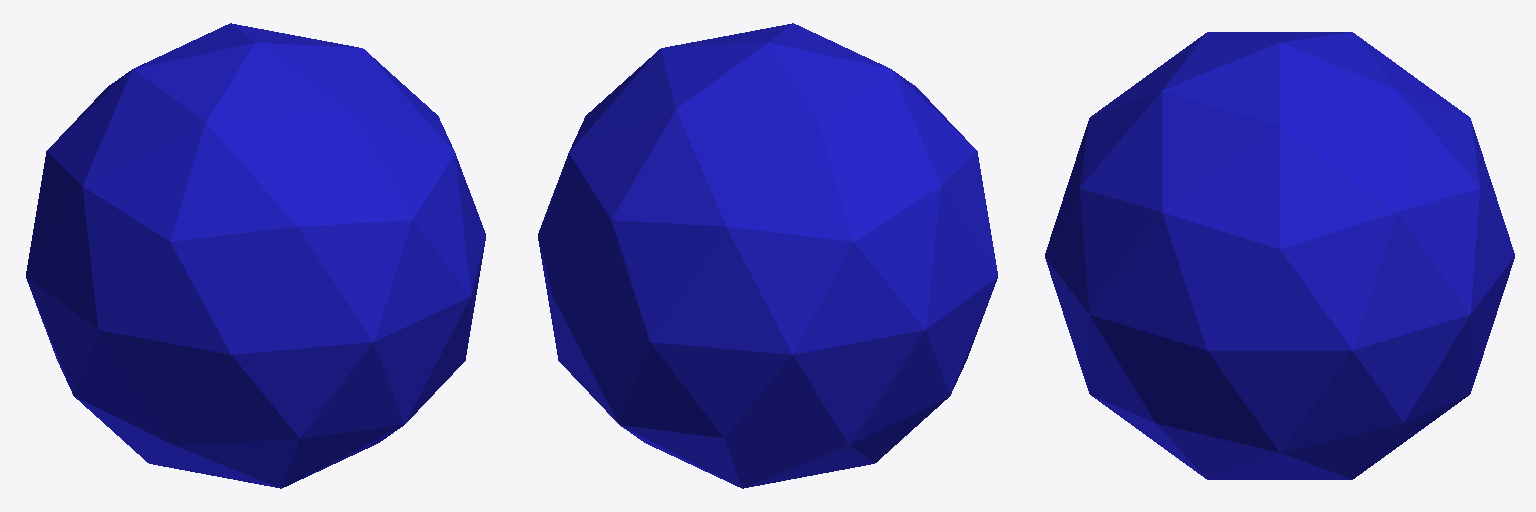
File: anti_matter_positron_2.obj
3 renders of one model, left to right at view 1: azimuth 30°, elevation 25°; view 2: azimuth 150°, elevation 25°; view 3: azimuth 270°, elevation 25°, orthographic.
Parts seen in each view (by area): view 1: Icosphere; view 2: Icosphere; view 3: Icosphere.
Boxes of the visible parts, box(x1,y1,x2,y2) form: Icosphere: box(26, 23, 485, 488); Icosphere: box(538, 23, 997, 488); Icosphere: box(1045, 32, 1514, 479).
Bounding box in the file's own units: 0.1753 × 0.1843 × 0.1843.